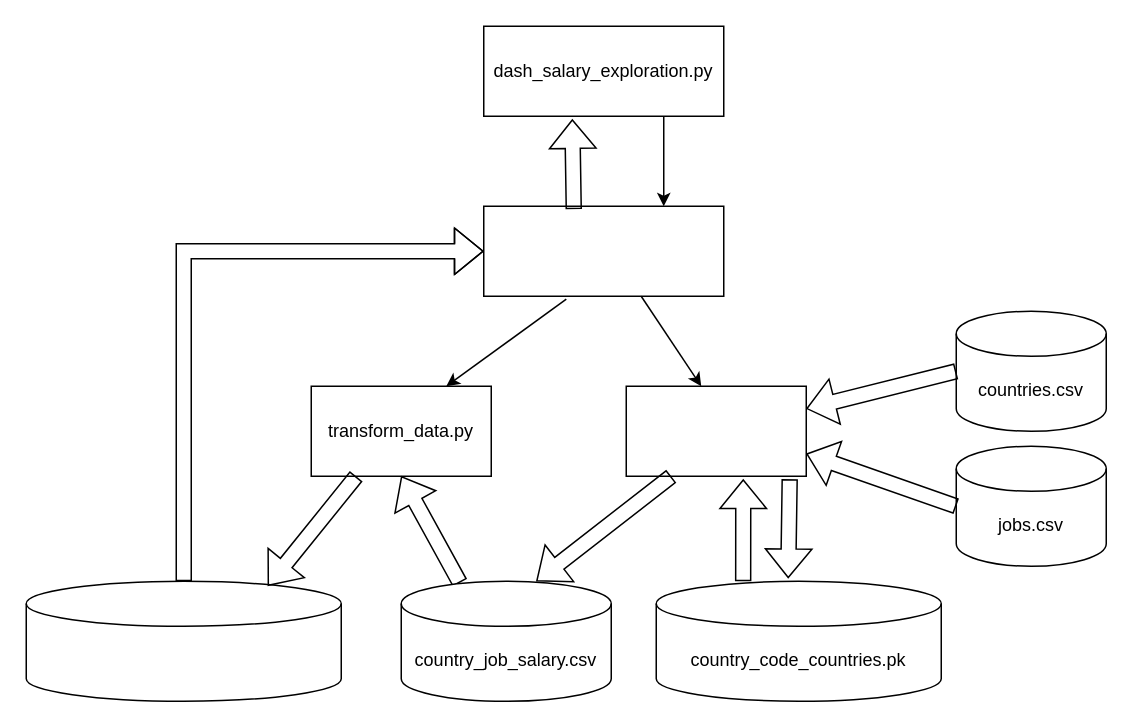
Some shapes in this 1133 by 728 pixel diagram are drawn without their labels. The shapes that lost their labels are listed below. From the top down, each one's centre as x and y in pixels, then its label:
[603,250]: salary_exploration.py
[715,430]: extract_data.py
[183,640]: country_job_salary_transformed.csv
